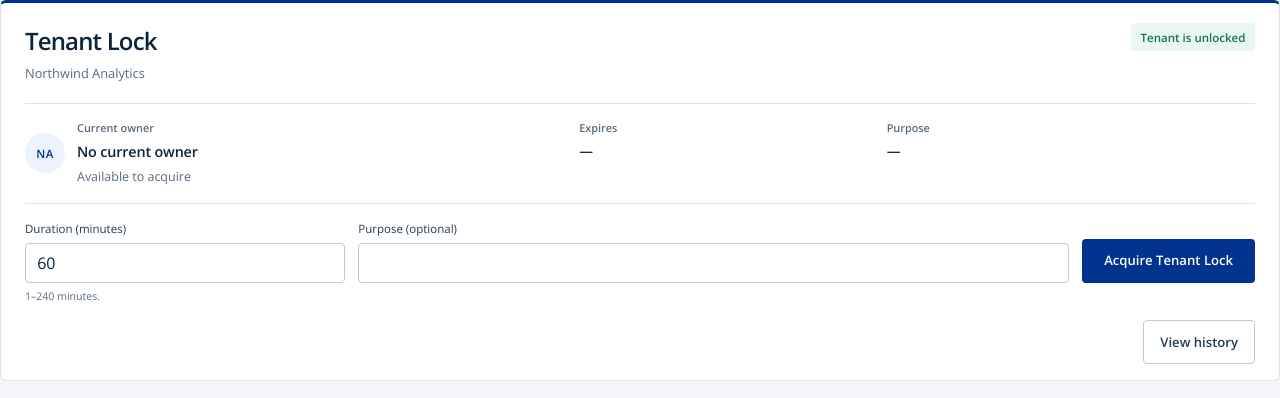
it: Tenant Lock acquisition › acquires only after explicit submission and refetches server-owned state
This screenshot has width=1280, height=398.
expect the text "Tenant is unlocked" is shown: met, box x1=1131 y1=23 x2=1255 y2=52
Replace the text in the number field labelled "Duration (minutes)" with "90" at point(185, 263), box x1=25 y1=243 x2=345 y2=283
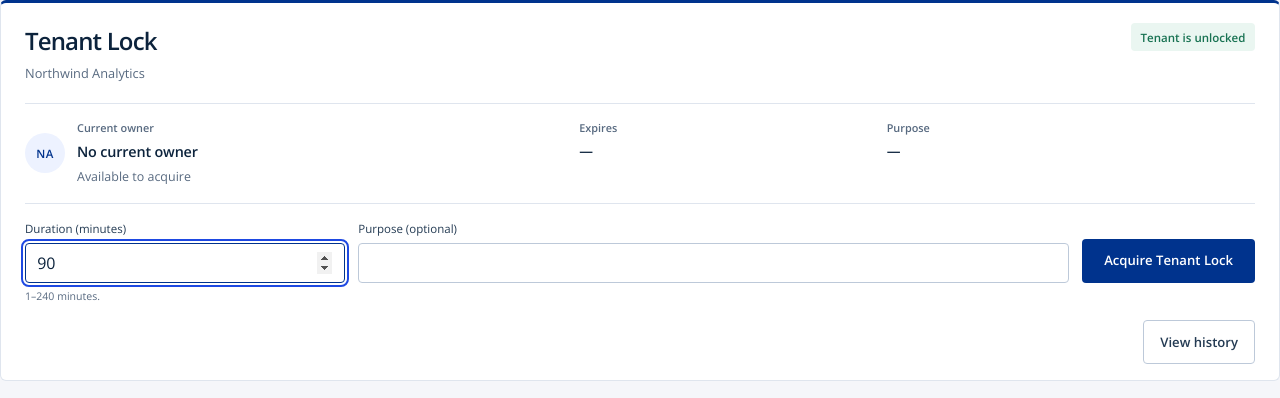
Type "Metadata review" into the field labelled "Purpose (optional)" at point(714, 263), box x1=358 y1=243 x2=1069 y2=283
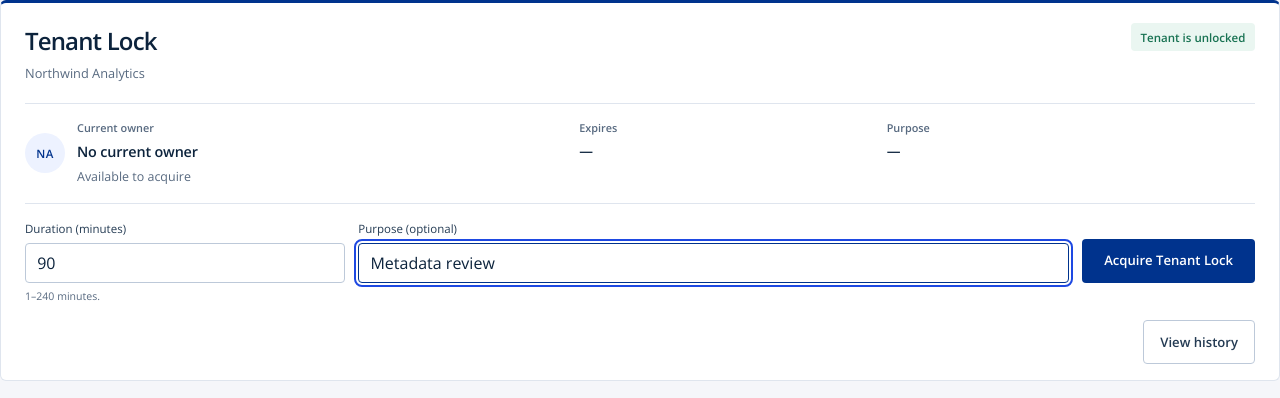
Click the button "Acquire Tenant Lock" at point(1169, 261), box x1=1082 y1=239 x2=1255 y2=283
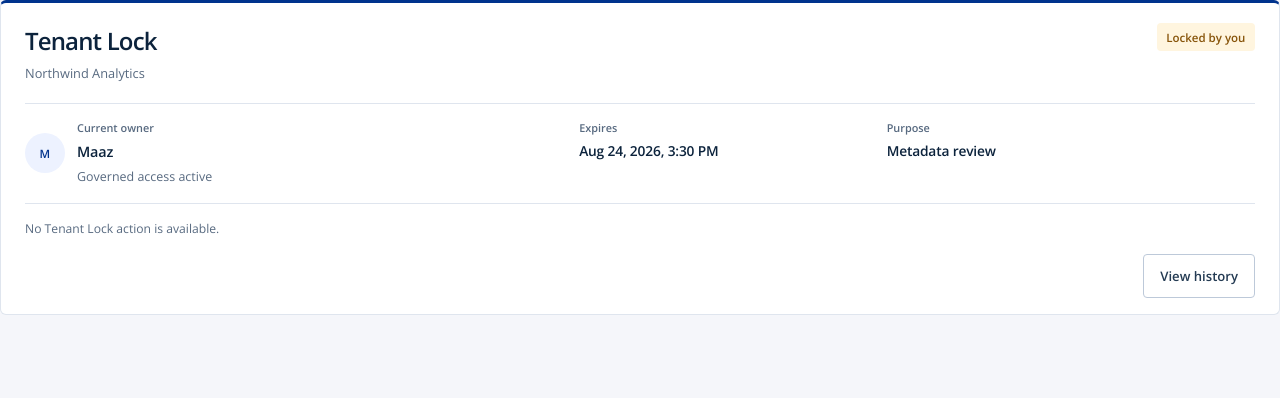
expect the text "Locked by you" is shown: met, box x1=1157 y1=23 x2=1255 y2=52
